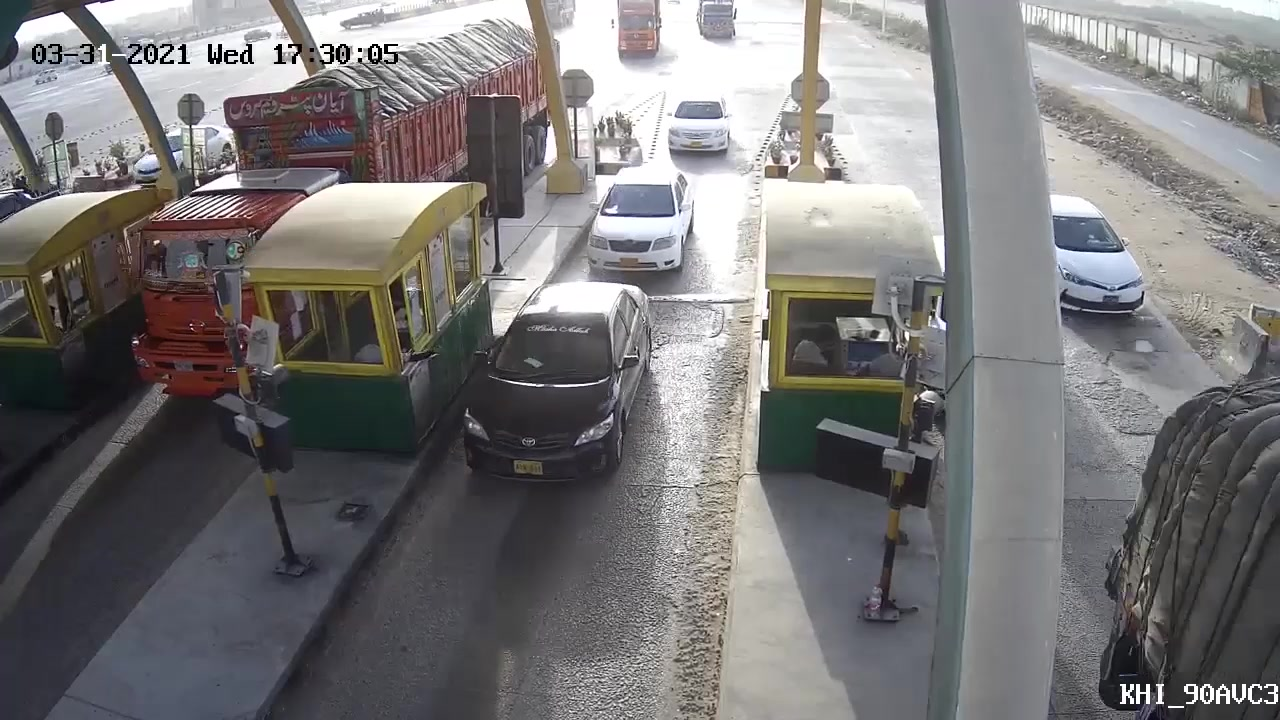F1: (461, 282, 650, 492), (585, 153, 698, 275)
